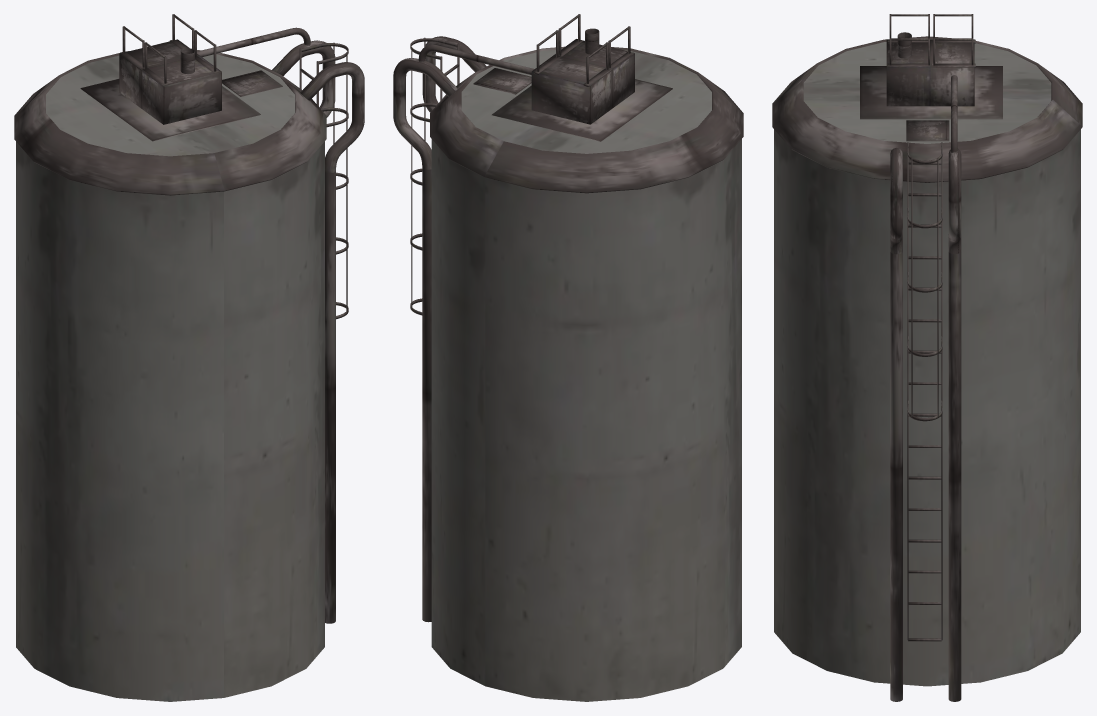
Rendered from Concrete_Tank_1.glb.
The picture shows the model from 3 angles, left to right: view 1: azimuth 30°, elevation 25°; view 2: azimuth 150°, elevation 25°; view 3: azimuth 270°, elevation 25°; orthographic projection.
Parts seen in each view (by area): view 1: Concrete_Tank_1; view 2: Concrete_Tank_1; view 3: Concrete_Tank_1.
Boxes of the visible parts, left/top/right/bottom form: Concrete_Tank_1: left=14, top=14, right=364, bottom=701; Concrete_Tank_1: left=393, top=14, right=743, bottom=701; Concrete_Tank_1: left=772, top=14, right=1082, bottom=701.
Size of the model in its own units: 6.47 by 11.9 by 5.55.
1 material, 1 textured.
